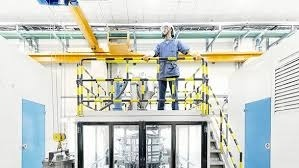person without safety: (138, 21, 206, 111)
